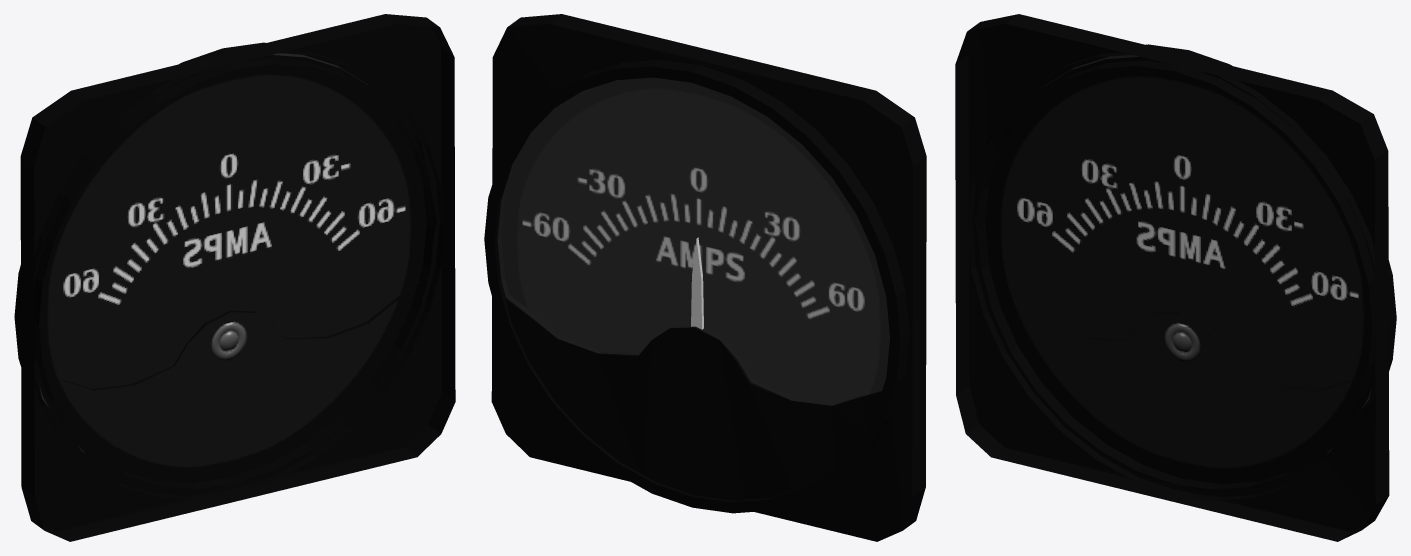
File: ammeter.obj
3 views of the same model, side by side, from view 1: azimuth 30°, elevation 25°; view 2: azimuth 150°, elevation 25°; view 3: azimuth 330°, elevation 25° (orthographic).
Parts seen in each view (by area): view 1: face, fond; view 2: fond, face, vitre, needle; view 3: face, fond.
Part boxes in pixels (box(x1,y1,x2,y2)): face: box(34, 55, 426, 484); fond: box(14, 14, 455, 541); fond: box(484, 14, 926, 541); face: box(501, 77, 889, 402); vitre: box(498, 78, 889, 404); needle: box(691, 237, 703, 329); face: box(985, 56, 1375, 485); fond: box(955, 14, 1396, 541).
Size of the model in its own units: 0.0837 by 0.0834 by 0.00788.
Materials: 2 (1 with a texture image).
